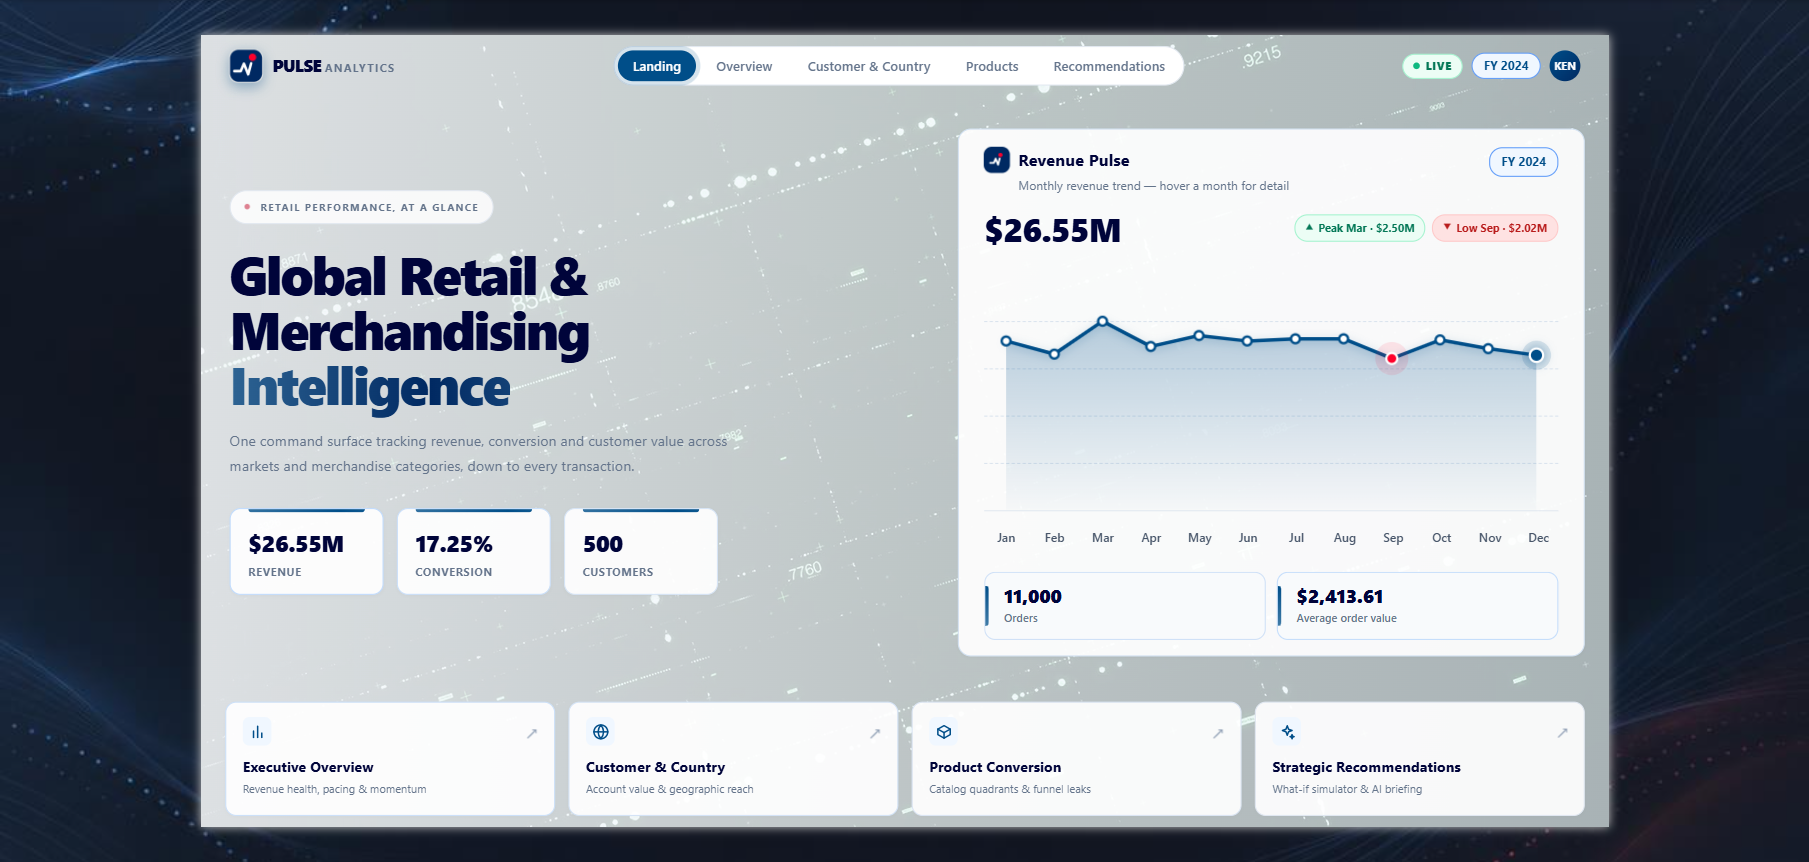

Layout of this report page (visuals, bound fields, positions):
{"tool":"powerbi","page":{"name":"Landing Page","canvas":[1280,720],"ordinal":0},"visuals":[{"type":"htmlContent443BE3AD55E043BF878BED274D3A6855","fields":{"content":["HTML_Visuals.Landing_Page"]},"box":[0,0,1280,720],"z":0}]}

Visuals, with their boxes on the page's 1280x720 design canvas (x1, y1, x2, y2). These are canvas units, not pixel positions in the 1809x862 screenshot, which may show the page scaled, cropped or inside an application window:
htmlContent443BE3AD55E043BF878BED274D3A6855 - HTML_Visuals.Landing_Page: region(0, 0, 1280, 720)
